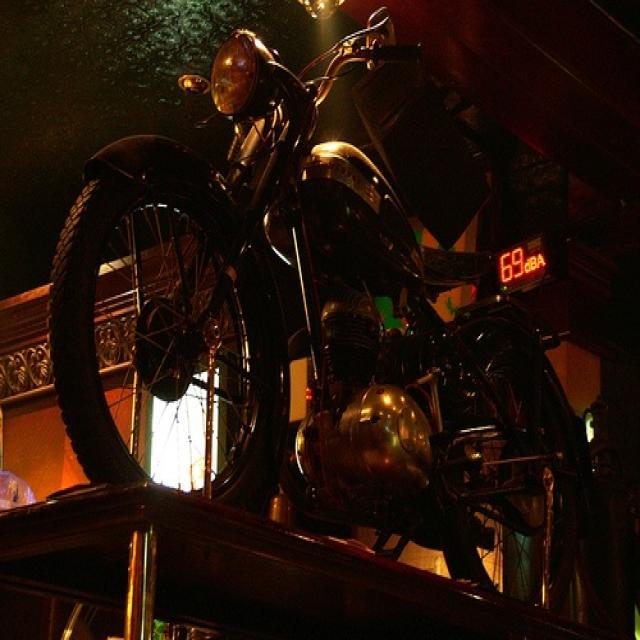Motorbike: (51, 95, 614, 607)
